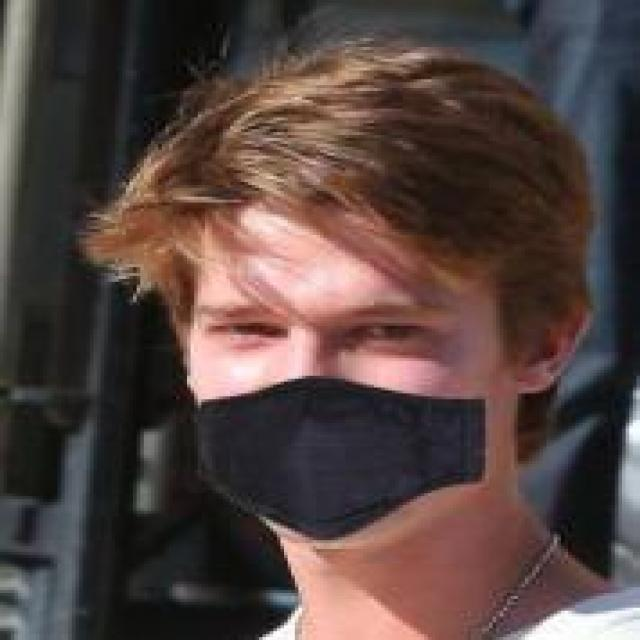mask: (133, 50, 597, 561)
